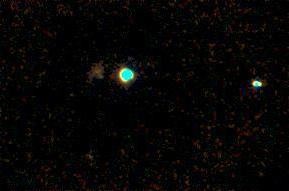star: (74, 142, 104, 172)
